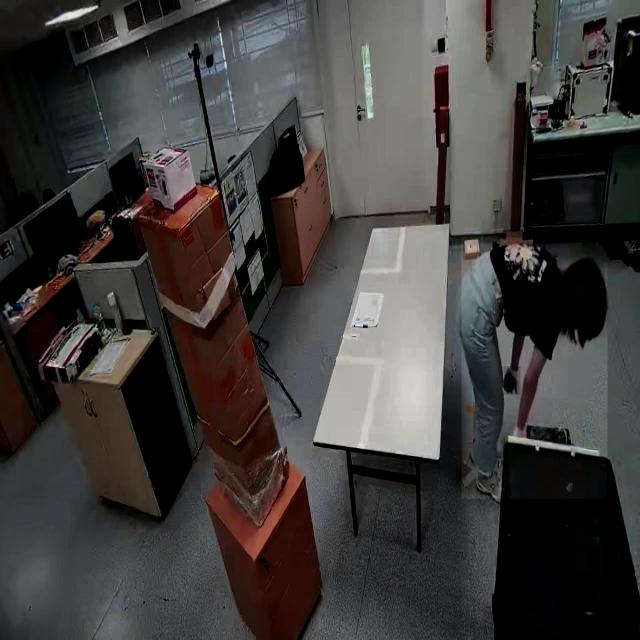hand_glove: (503, 366, 521, 396)
head_nohelmet: (584, 258, 608, 338)
person: (461, 238, 607, 500)
